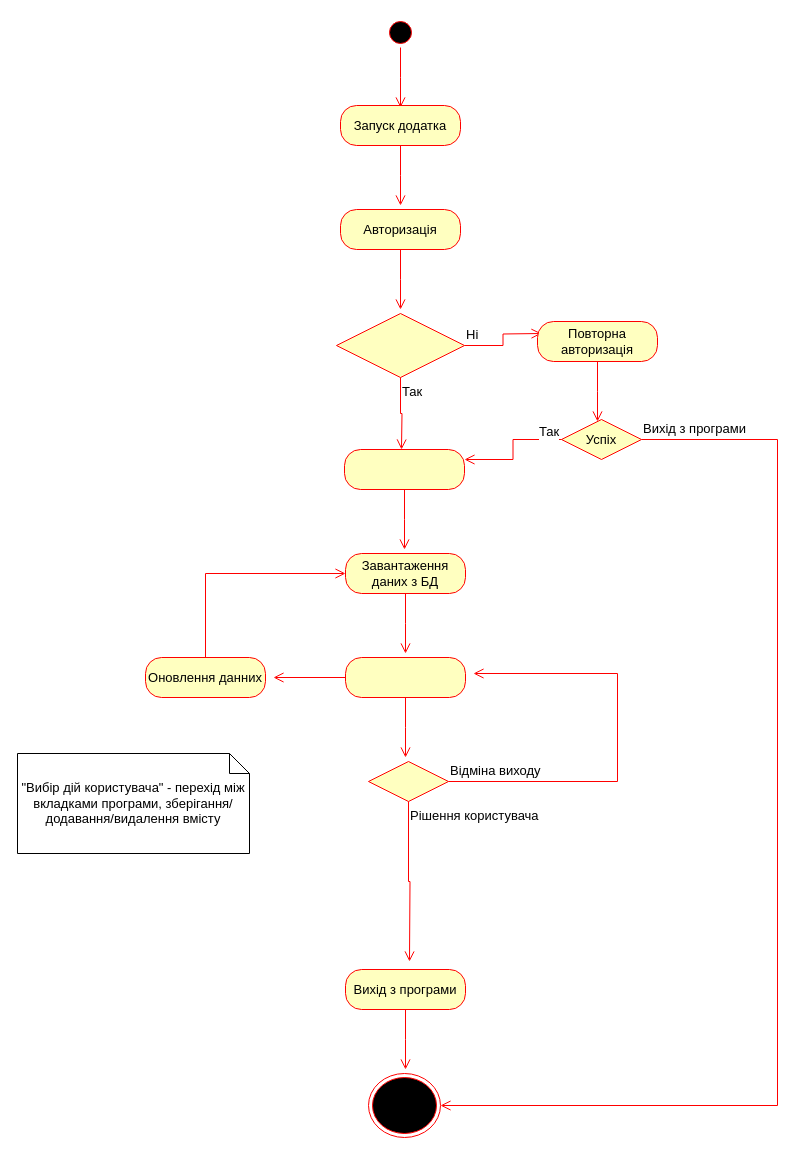
The diagram is 805 pixels wide and 1155 high, and some of its shapes have lost their labels. The centre of each missing label's shape, as x and y in pixels:
"Вибір дій користувачем" belongs at point 405,677.
"Вихід" belongs at point 408,781.
"Вхід до програми" belongs at point 404,469.
"Успішна авторизація" belongs at point 400,345.
